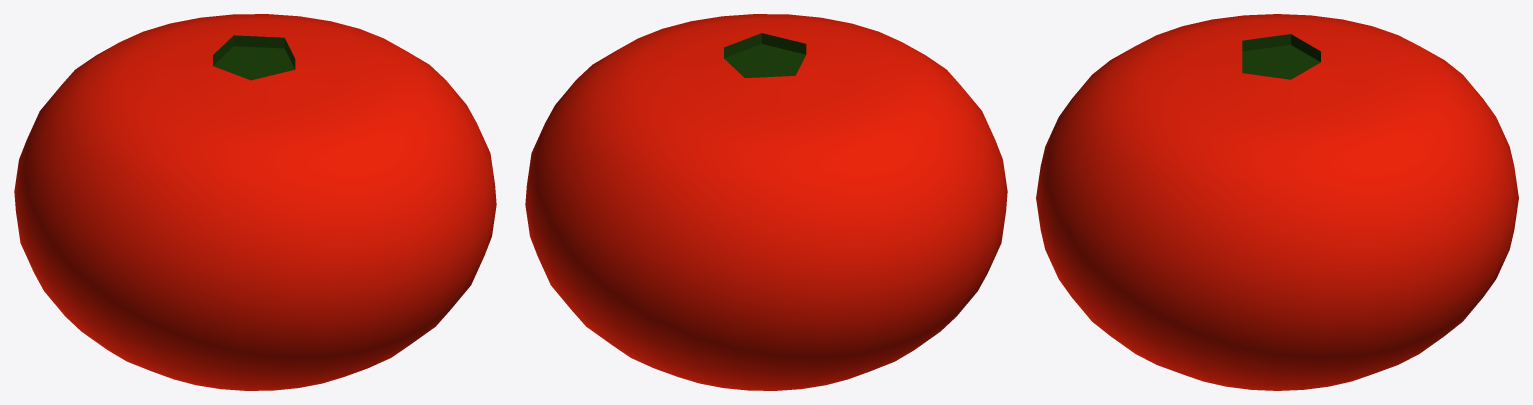
The model's file is Tomato.fbx.
3 views of the same model, side by side, from view 1: azimuth 30°, elevation 25°; view 2: azimuth 150°, elevation 25°; view 3: azimuth 270°, elevation 25° (orthographic).
Visible parts, largest first — view 1: 球, 円; view 2: 球, 円; view 3: 球, 円.
Part boxes in pixels (x1,y1,x2,y2): 球: (14, 14, 496, 390); 円: (213, 35, 295, 80); 球: (525, 14, 1007, 390); 円: (724, 33, 806, 77); 球: (1036, 14, 1518, 390); 円: (1242, 34, 1320, 79).
Bounding box in the file's own units: 200 × 142 × 200.
